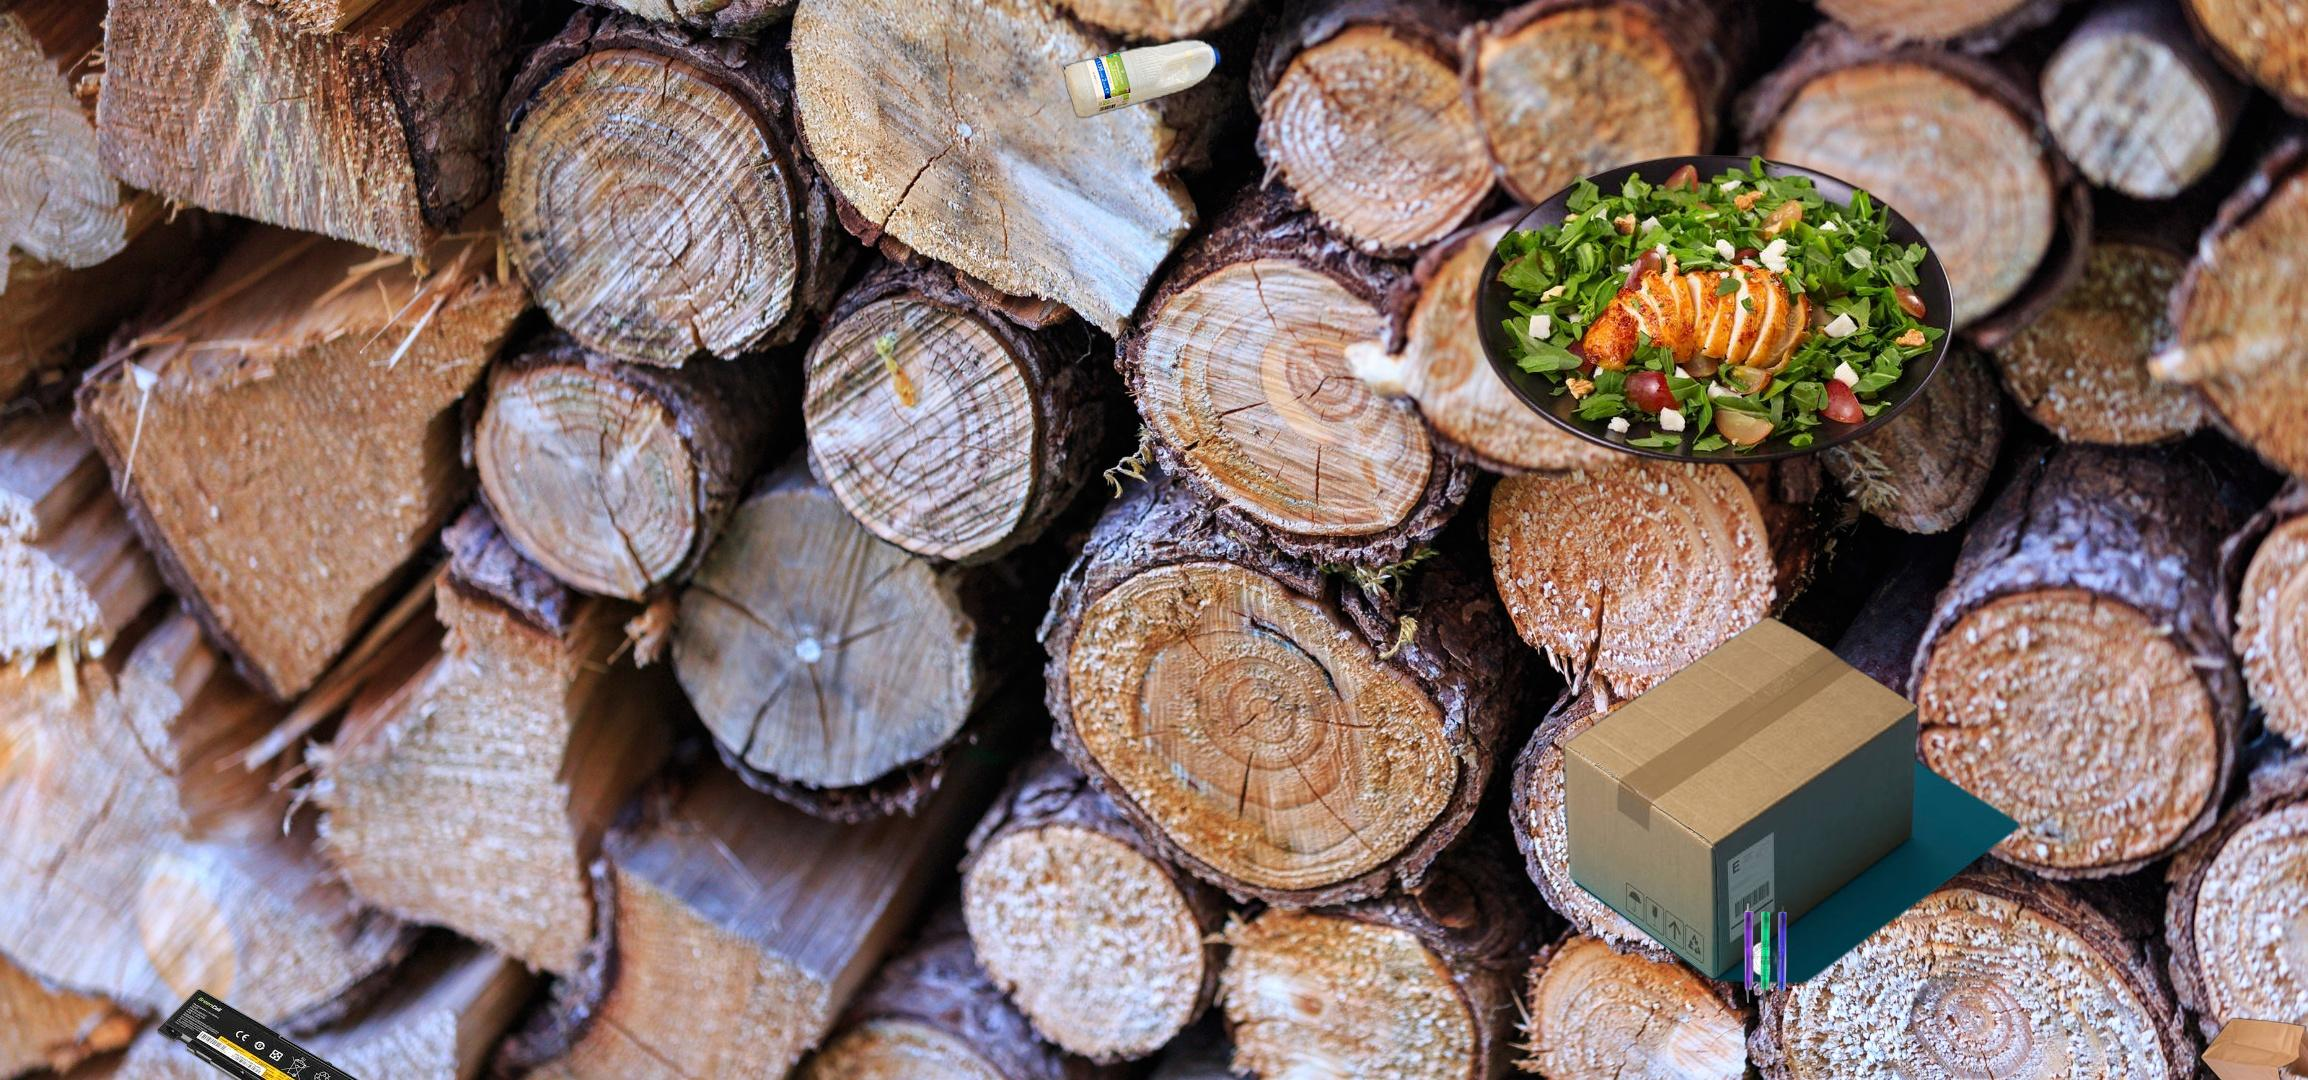battery: (155, 987, 375, 1080)
biological: (1470, 152, 1959, 468)
paper-bag: (2196, 1015, 2308, 1080)
penholder: (1741, 900, 1790, 1006)
plastic-bottles: (1055, 32, 1226, 124)
trashbox-cardboard: (1557, 611, 2025, 990)
